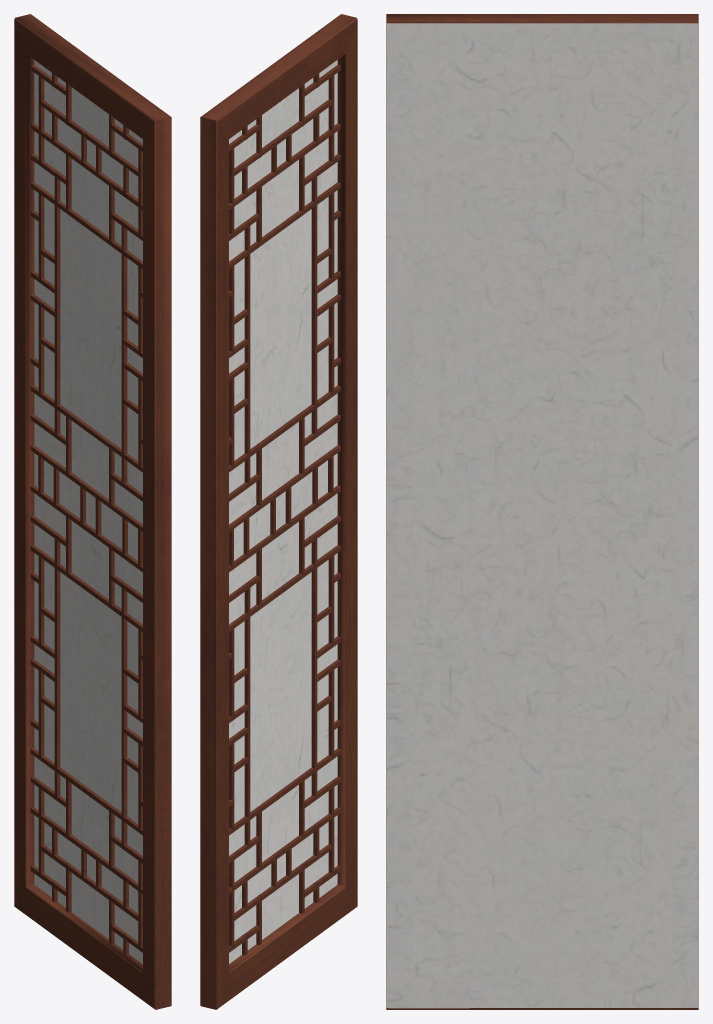
File: SM_Door16D.fbx
3 views of the same model, side by side, from view 1: azimuth 30°, elevation 25°; view 2: azimuth 150°, elevation 25°; view 3: azimuth 270°, elevation 25° (orthographic). The views are drawn at different scales.
Parts seen in each view (by area): view 1: SM_Door16D; view 2: SM_Door16D; view 3: SM_Door16D.
Part boxes in pixels (left/top/right/bottom): SM_Door16D: left=14, top=14, right=171, bottom=1009; SM_Door16D: left=200, top=14, right=357, bottom=1009; SM_Door16D: left=386, top=14, right=698, bottom=1009.
Bounding box in the file's own units: 3.47 × 49.31 × 172.
